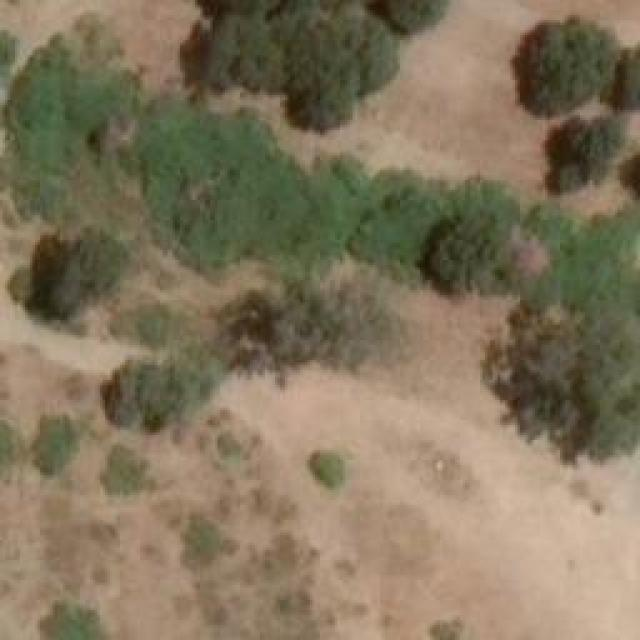Tree: (485, 204, 640, 455), (133, 100, 314, 276), (4, 34, 136, 165), (185, 10, 285, 103), (296, 147, 370, 272), (515, 20, 610, 115), (280, 23, 360, 133), (364, 171, 448, 273), (28, 232, 111, 320), (107, 355, 195, 438), (425, 218, 513, 298), (550, 115, 625, 190), (92, 440, 150, 498), (35, 415, 83, 475), (370, 0, 450, 35), (40, 603, 100, 638), (180, 520, 223, 568), (610, 45, 640, 108), (313, 448, 343, 488), (428, 620, 458, 640)
